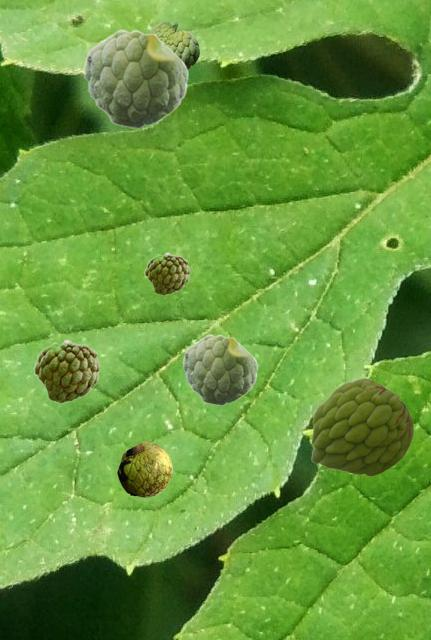atis: (83, 29, 188, 127), (311, 378, 412, 475), (182, 334, 257, 404), (33, 339, 99, 402), (117, 441, 171, 496), (150, 21, 198, 69), (144, 252, 189, 294)
